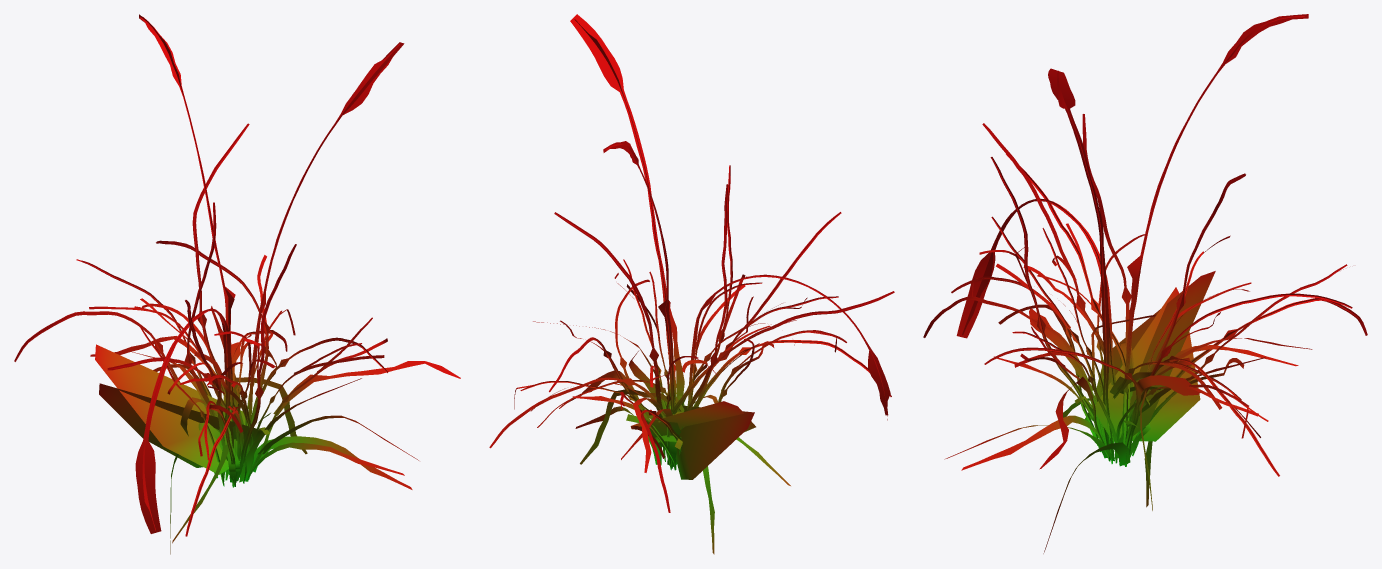
File: slBm1_Var6_LOD0.fbx
3 views of the same model, side by side, from view 1: azimuth 30°, elevation 25°; view 2: azimuth 150°, elevation 25°; view 3: azimuth 270°, elevation 25° (orthographic). The views are drawn at different scales.
Parts seen in each view (by area): view 1: _3189_Var6_LOD0; view 2: _3189_Var6_LOD0; view 3: _3189_Var6_LOD0.
Part boxes in pixels (box(x1,y1,x2,y2)): _3189_Var6_LOD0: box(14, 14, 460, 554); _3189_Var6_LOD0: box(489, 14, 894, 554); _3189_Var6_LOD0: box(923, 14, 1367, 553).
Bounding box in the file's own units: 38.95 × 50.07 × 37.37.
